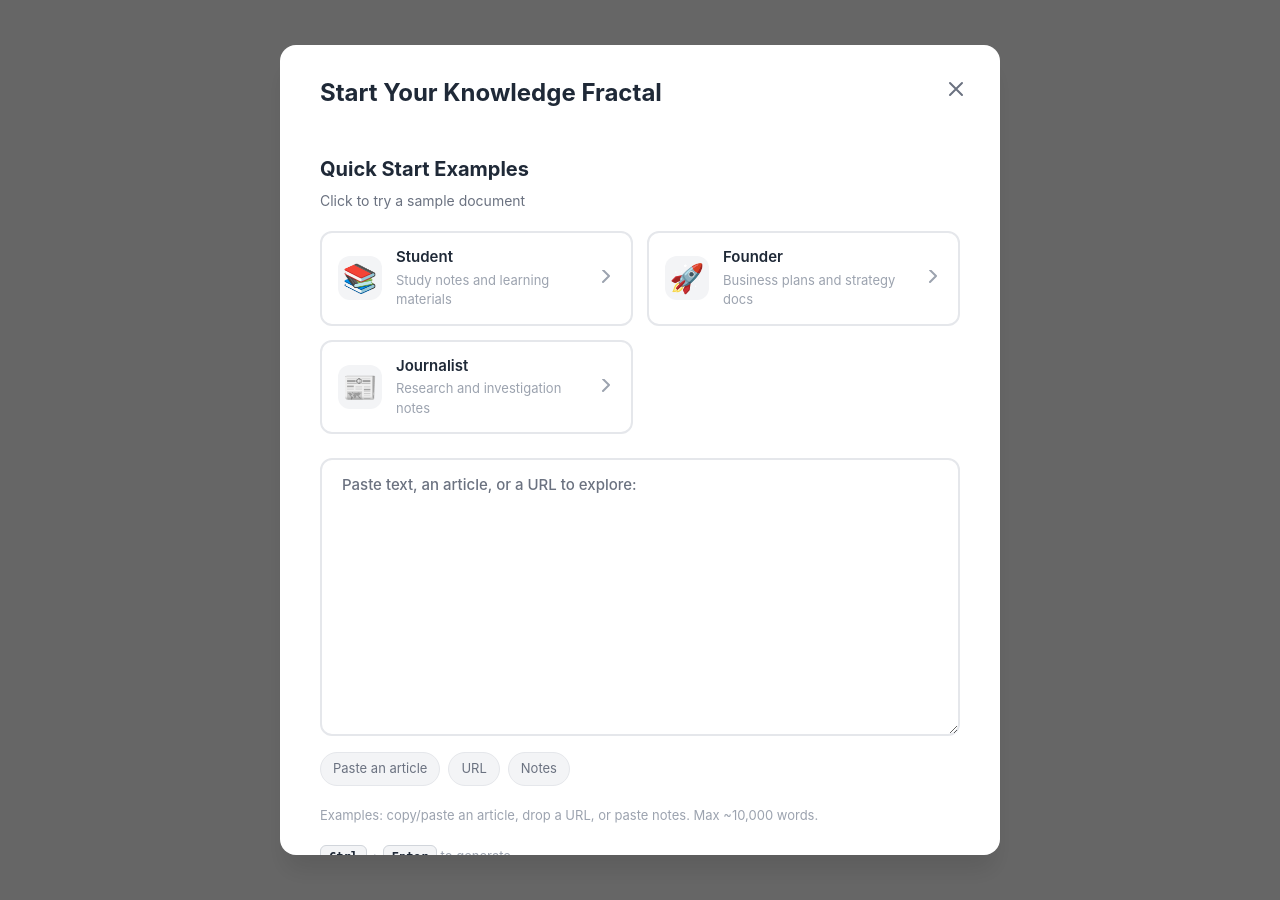
Test: OnboardPopover › Text Input › should enable submit button when text is not empty
Type "Test content" into the text box labelled "Paste text, an article, or a URL to explore:" at (640, 597), box [320, 458, 960, 736]
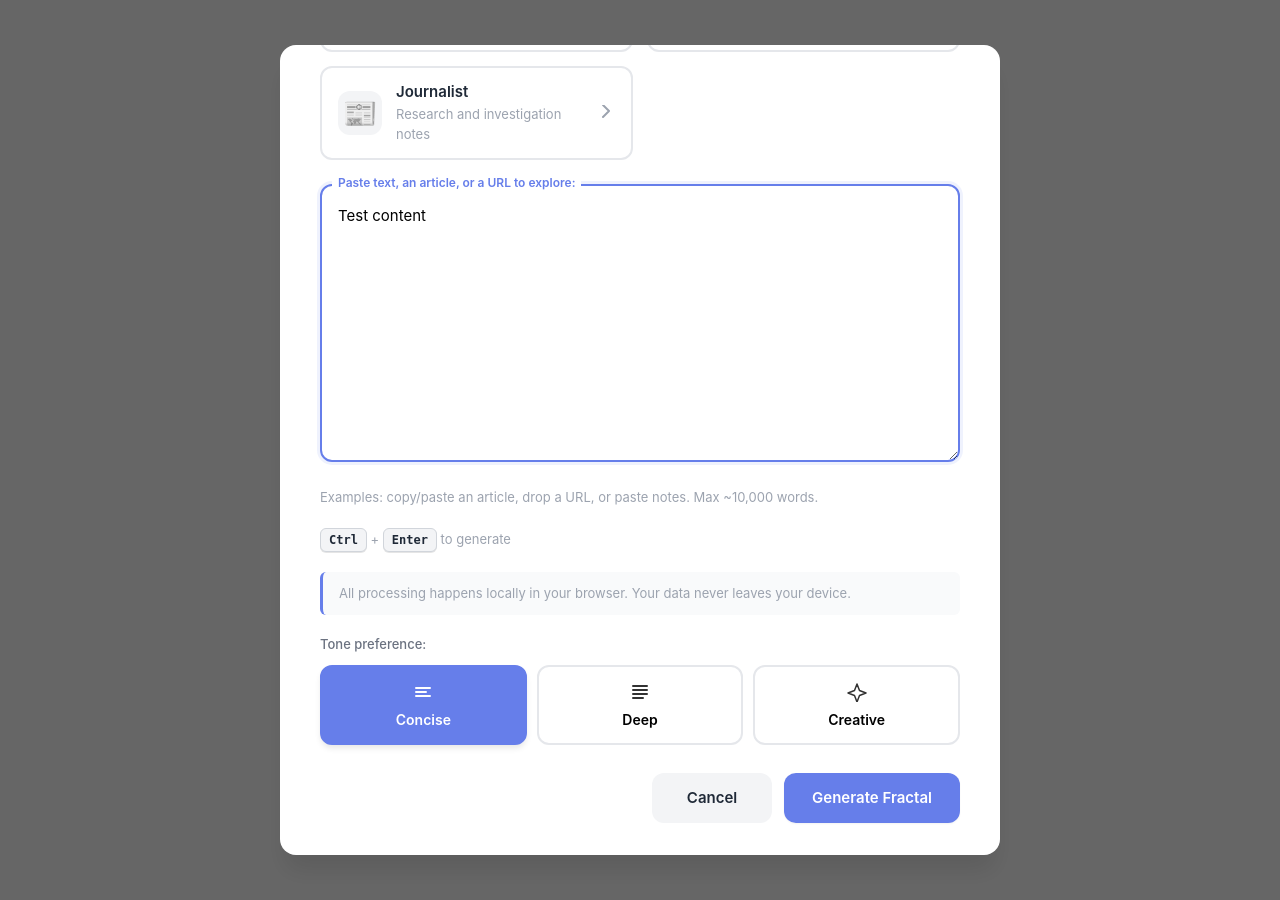
Now the button "Generate Fractal" is enabled, box [784, 773, 960, 823]
